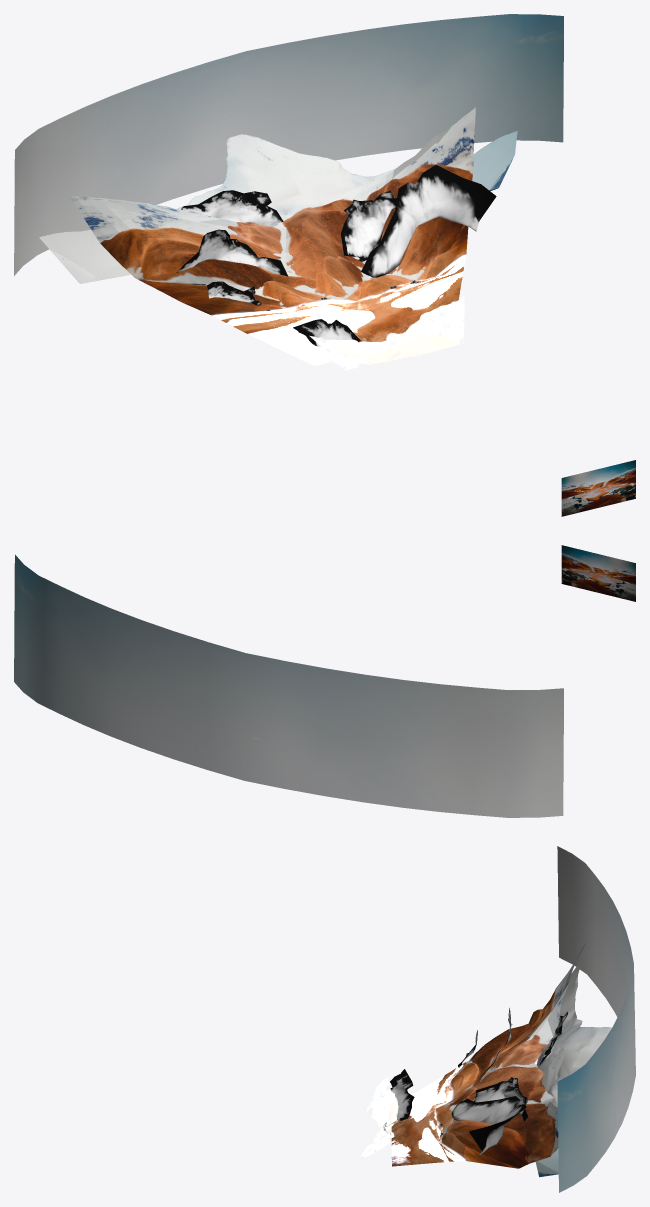
The model's file is cs-brownmountain.glb.
3 renders of one model, top to bottom at view 1: azimuth 30°, elevation 25°; view 2: azimuth 150°, elevation 25°; view 3: azimuth 270°, elevation 25°, orthographic. The views are drawn at different scales.
Visible parts, largest first — view 1: Sky, Ground, Clouds, Plan3, Plan1, Background; view 2: Sky, Background; view 3: Sky, Ground, Clouds, Plan3, Plan1.
Boxes of the visible parts, left/top/right/bottom form: Sky: left=14, top=14, right=563, bottom=275; Ground: left=69, top=107, right=475, bottom=365; Clouds: left=176, top=165, right=496, bottom=346; Plan3: left=39, top=130, right=517, bottom=283; Plan1: left=309, top=296, right=464, bottom=370; Background: left=561, top=460, right=635, bottom=516; Sky: left=14, top=554, right=563, bottom=817; Background: left=561, top=545, right=635, bottom=601; Sky: left=557, top=846, right=635, bottom=1192; Ground: left=391, top=943, right=585, bottom=1168; Clouds: left=390, top=1008, right=567, bottom=1156; Plan3: left=535, top=958, right=611, bottom=1177; Plan1: left=360, top=1075, right=398, bottom=1159.
Size of the model in its own units: 29.59 by 10.53 by 33.04.
6 materials, 6 textured.
